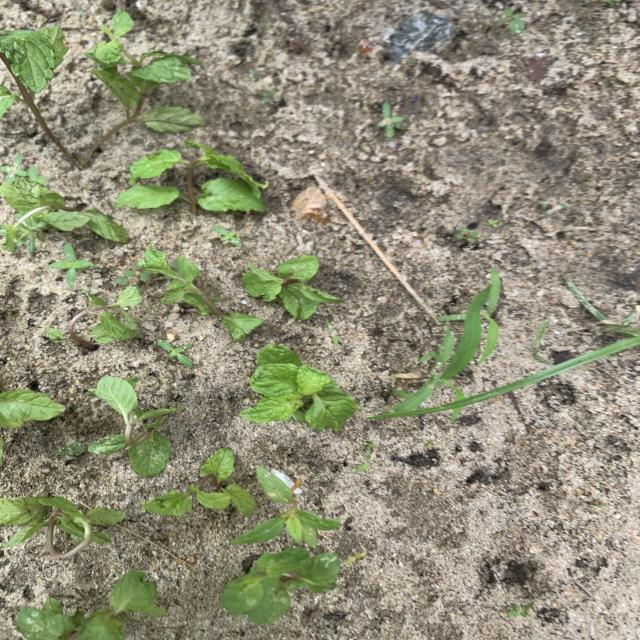crop: (0, 8, 204, 168), (137, 246, 263, 339), (116, 142, 267, 211), (17, 570, 166, 639), (240, 344, 358, 430), (87, 376, 181, 475), (221, 547, 339, 623), (1, 173, 127, 244), (232, 467, 341, 547), (1, 497, 126, 559), (144, 448, 254, 515), (243, 255, 343, 318), (47, 290, 141, 347), (1, 389, 63, 427)
weed: (376, 334, 638, 418), (444, 290, 489, 378), (479, 268, 501, 364), (51, 243, 94, 285), (375, 102, 406, 138), (0, 155, 34, 183), (158, 340, 191, 366), (497, 8, 525, 33), (116, 268, 152, 286), (215, 226, 241, 247), (455, 226, 479, 243), (507, 602, 532, 617), (327, 320, 338, 343), (361, 441, 373, 457), (354, 462, 367, 473)
